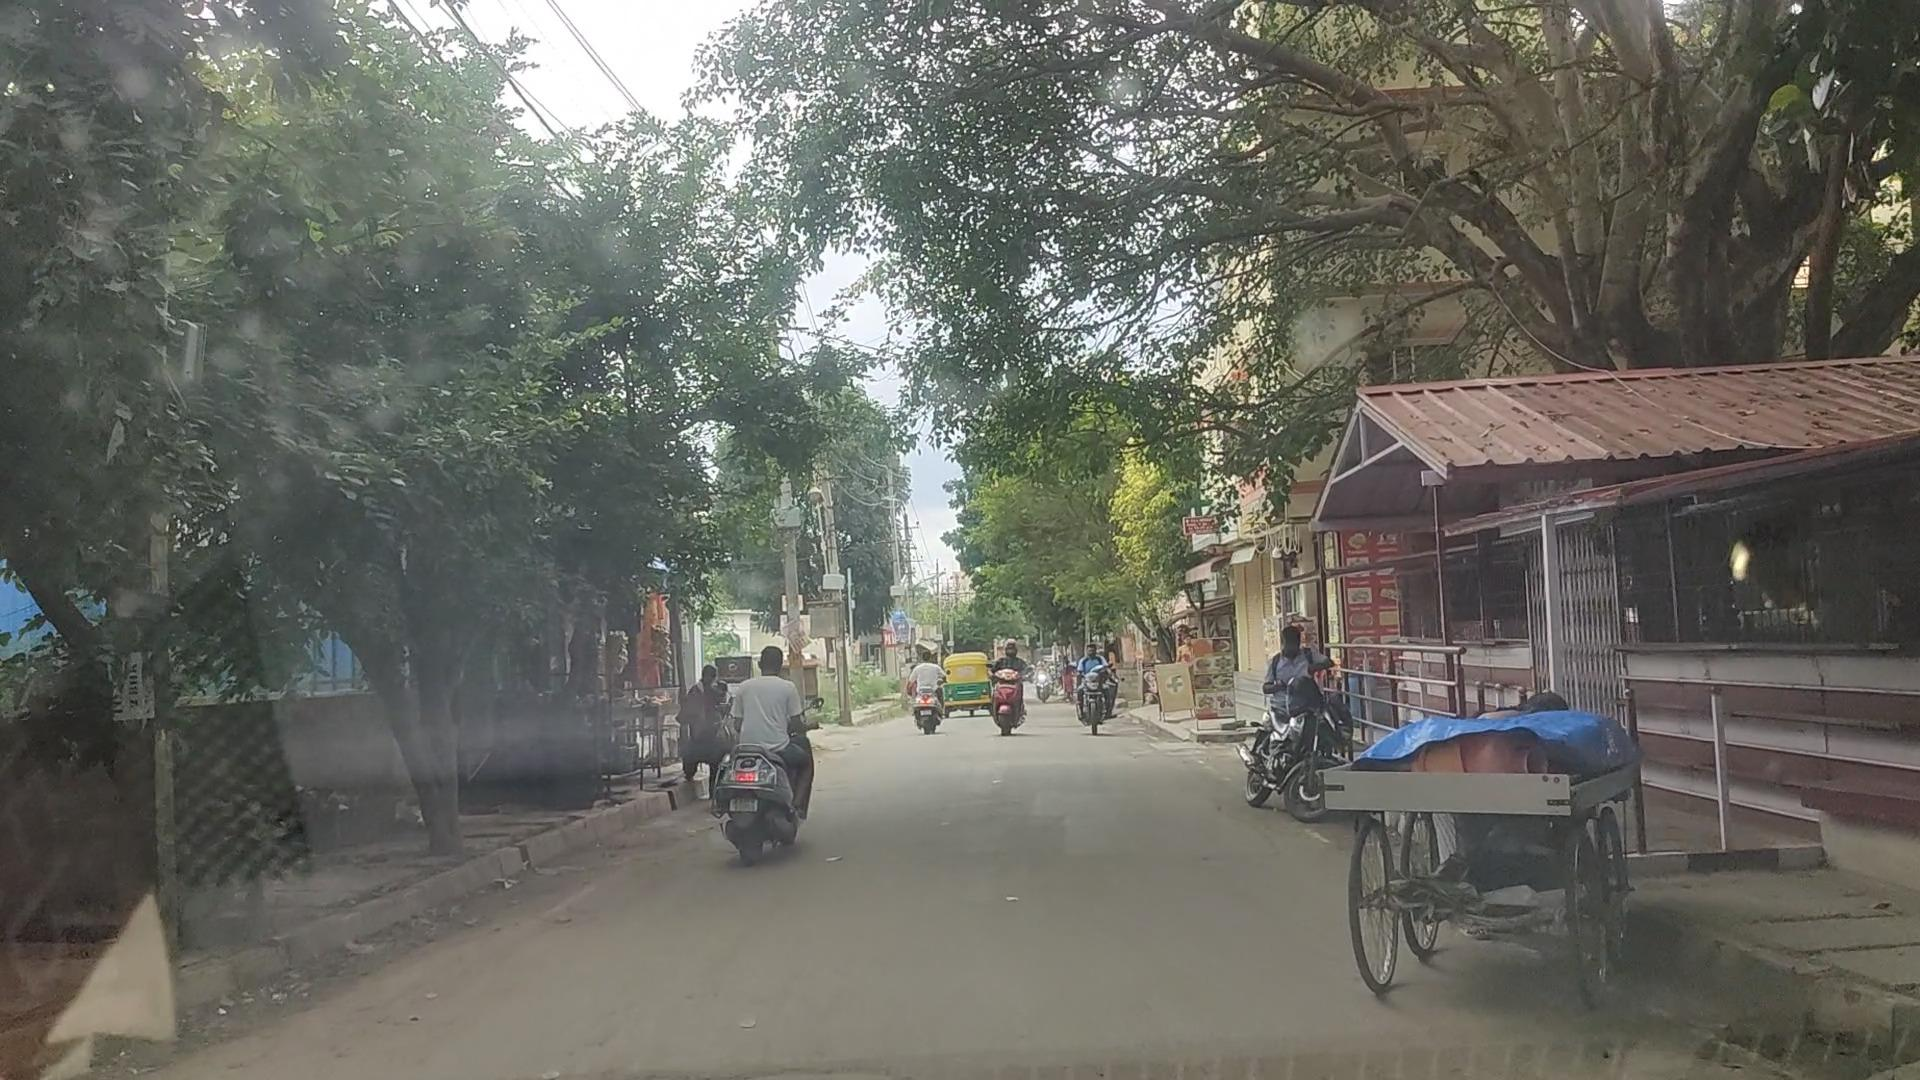LMV: (721, 642, 804, 873), (902, 649, 947, 740)
